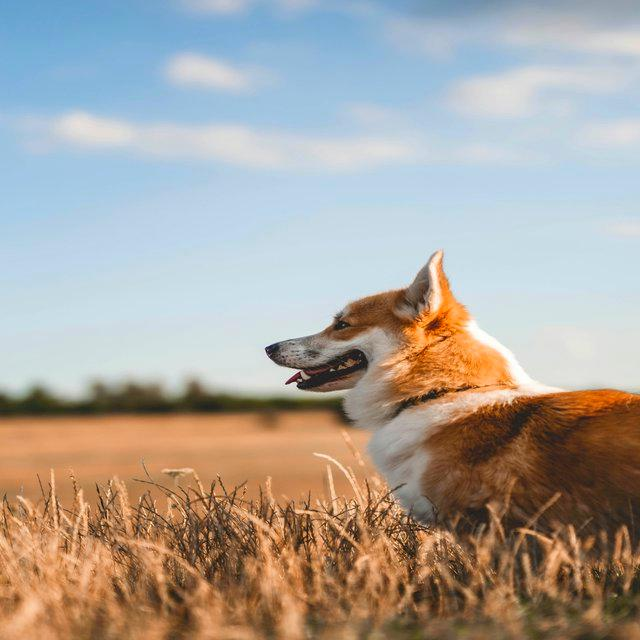corgi: (265, 248, 640, 543)
